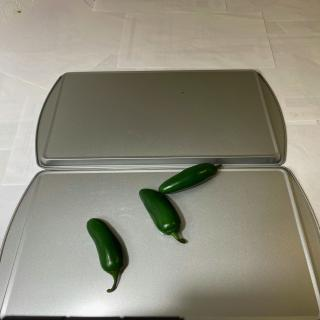Chilli: (86, 218, 125, 292), (138, 188, 187, 244), (158, 162, 222, 194)
